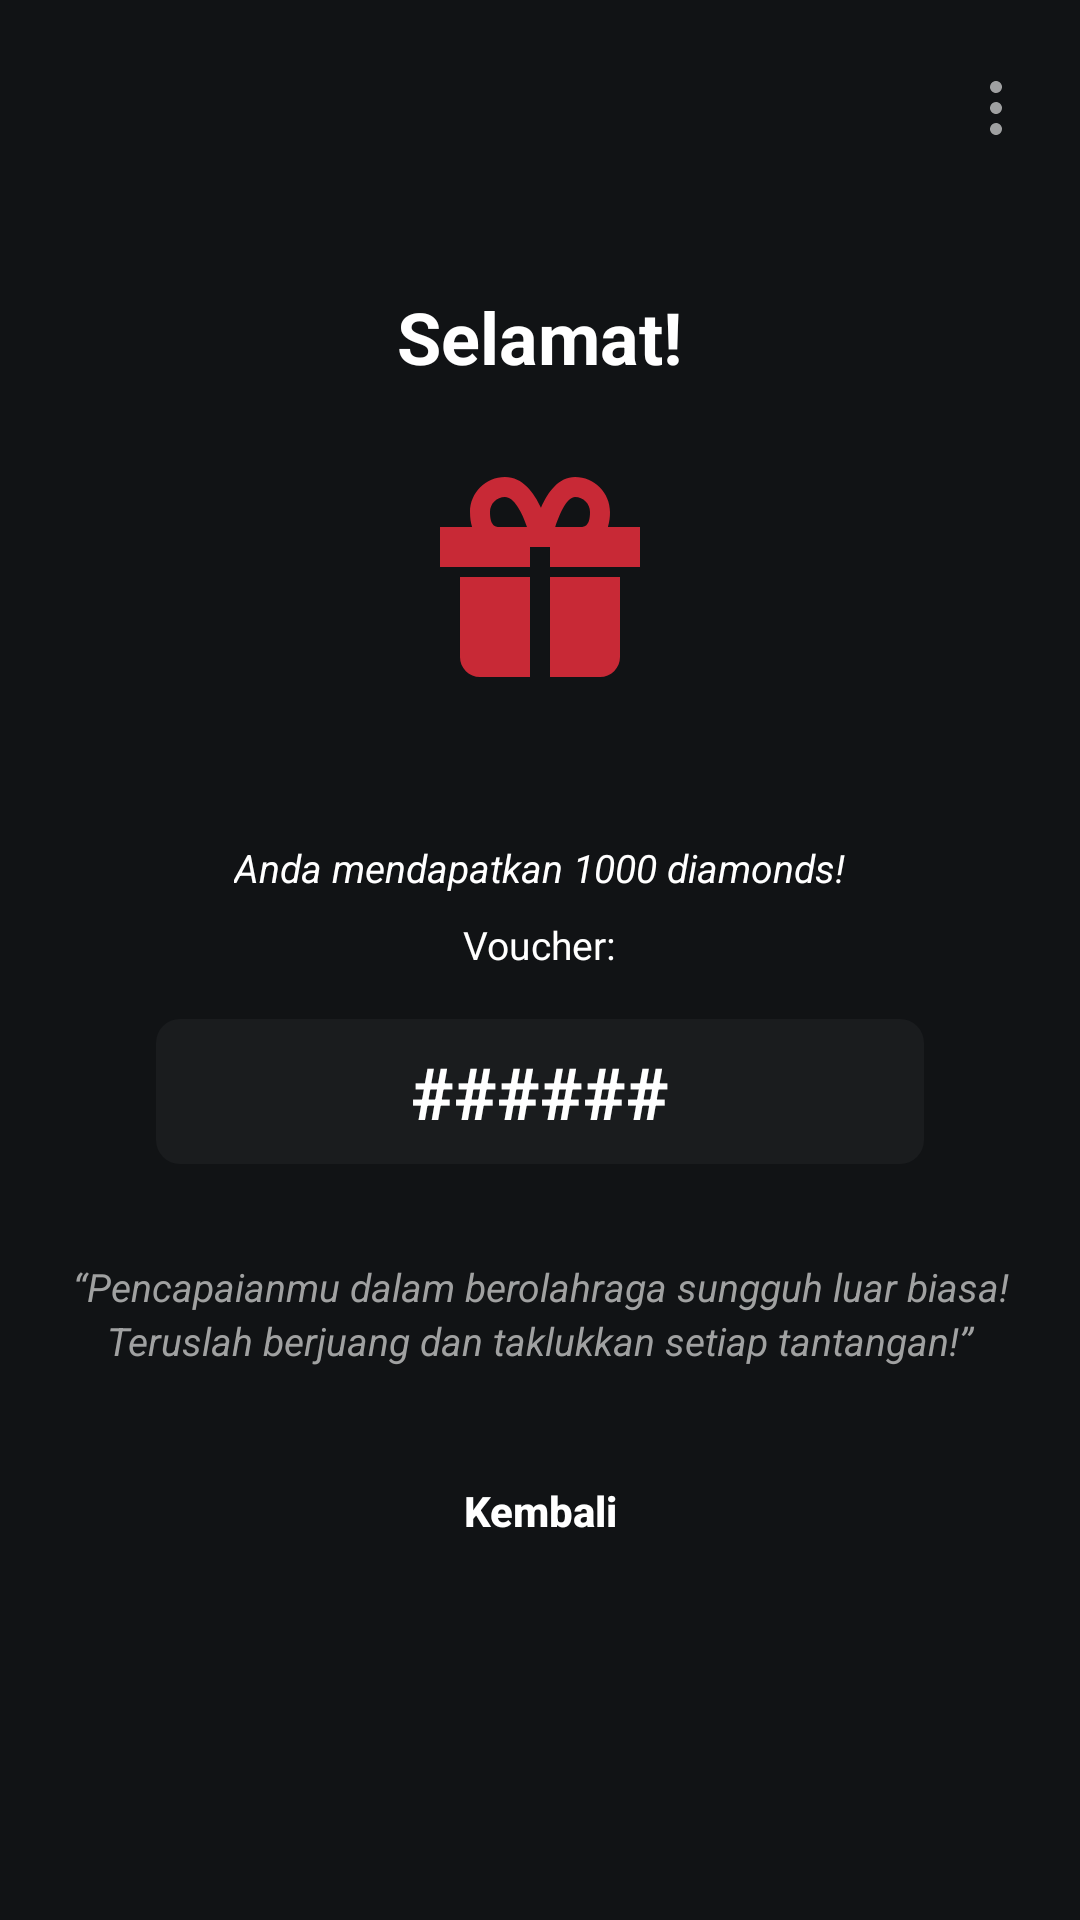

Screen size 1080w x 1920h. Icon name, then its center in pixels as (x=x, y=y):
elipsis: (x=996, y=108)
reward: (x=540, y=577)
